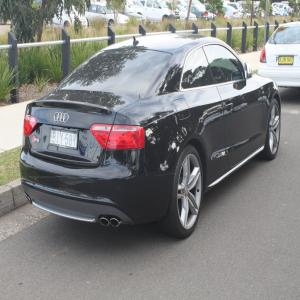Vehicle-registration-plate: (51, 127, 80, 154), (279, 57, 296, 68)
